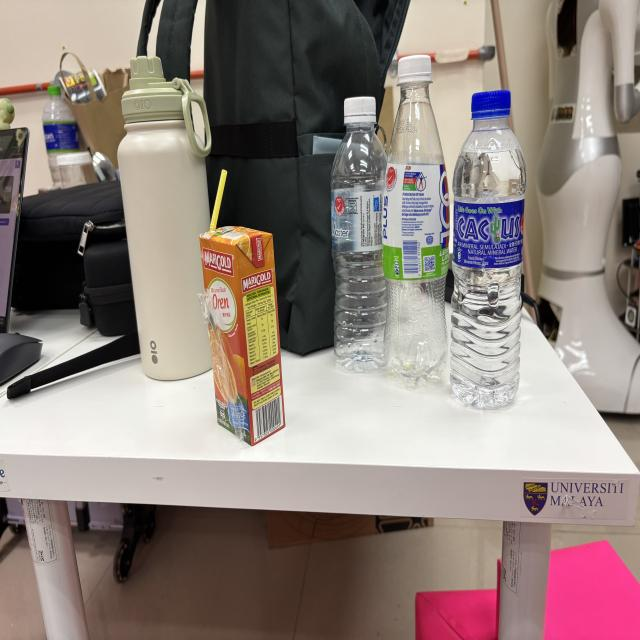drink_carton: (196, 161, 294, 454)
plastic_bottle: (442, 79, 531, 419), (374, 42, 456, 402), (326, 78, 402, 382)
